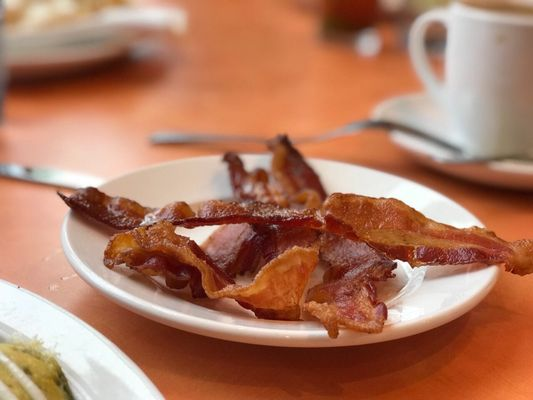pizza: (407, 1, 533, 160)
soup: (322, 193, 533, 272)
